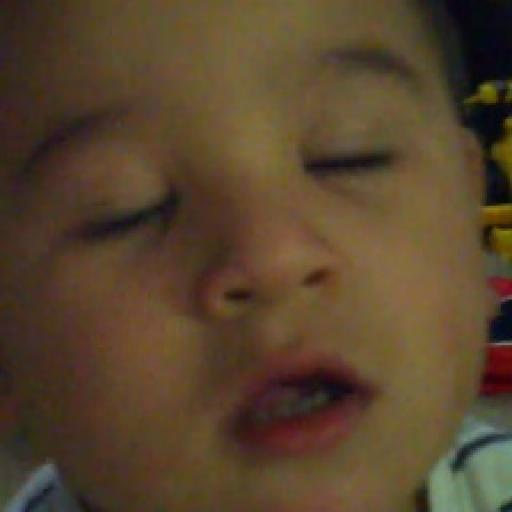Autism: (10, 2, 512, 512)
